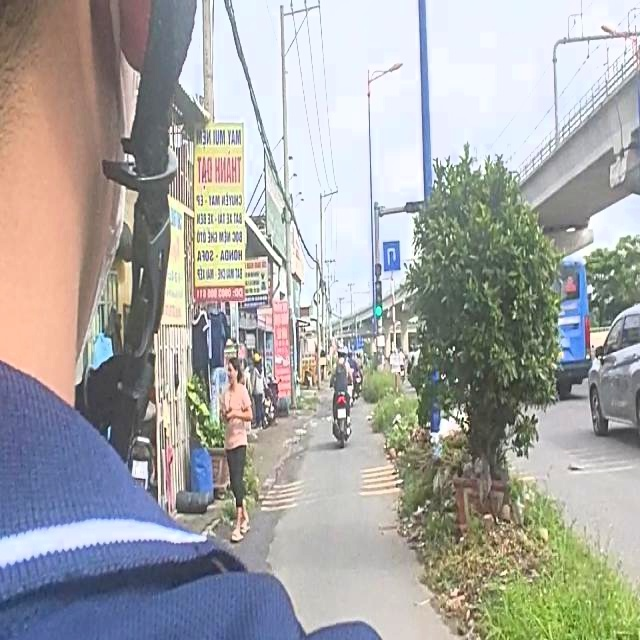I.409: (381, 237, 401, 273)
